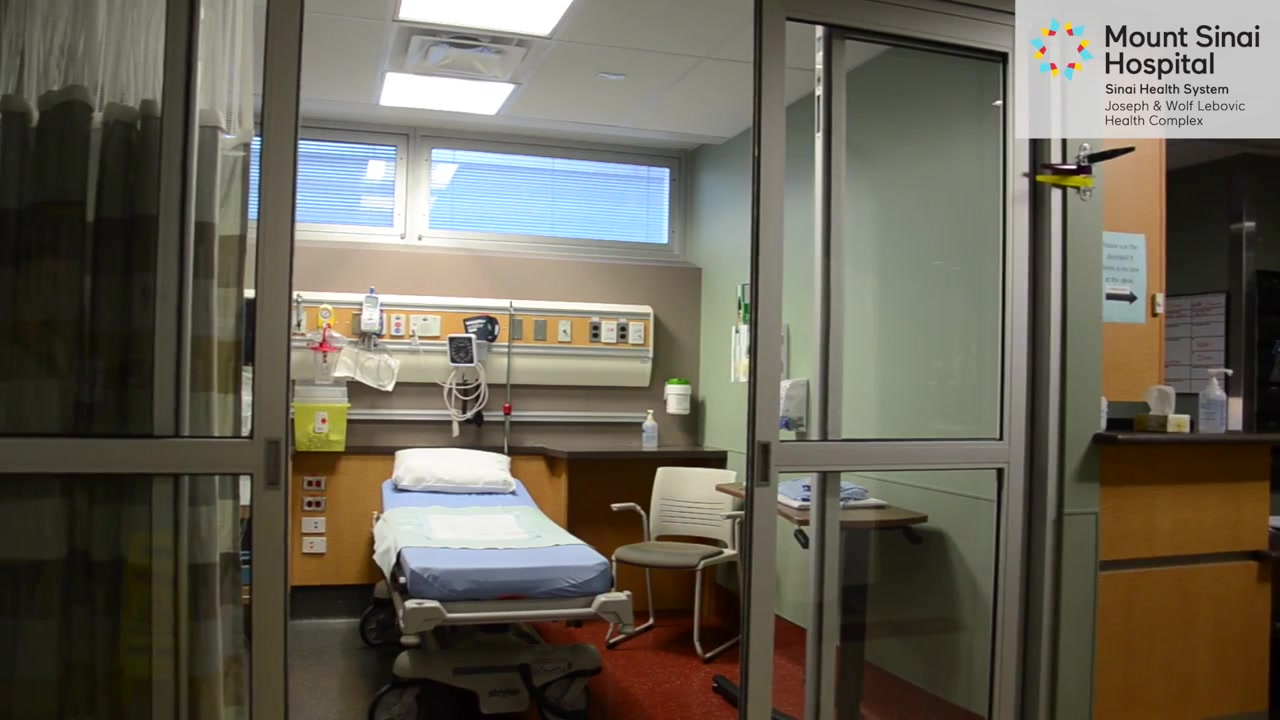chair: (603, 463, 741, 663)
countertop: (1100, 431, 1280, 452), (543, 441, 732, 460)
curtain: (1, 2, 254, 716)
dispenser: (1195, 365, 1235, 435), (778, 378, 805, 431), (642, 409, 659, 453)
door_handle: (754, 437, 774, 491), (265, 435, 285, 489)
hospital_bed: (358, 446, 631, 720)
overbed_table: (714, 477, 928, 720)
